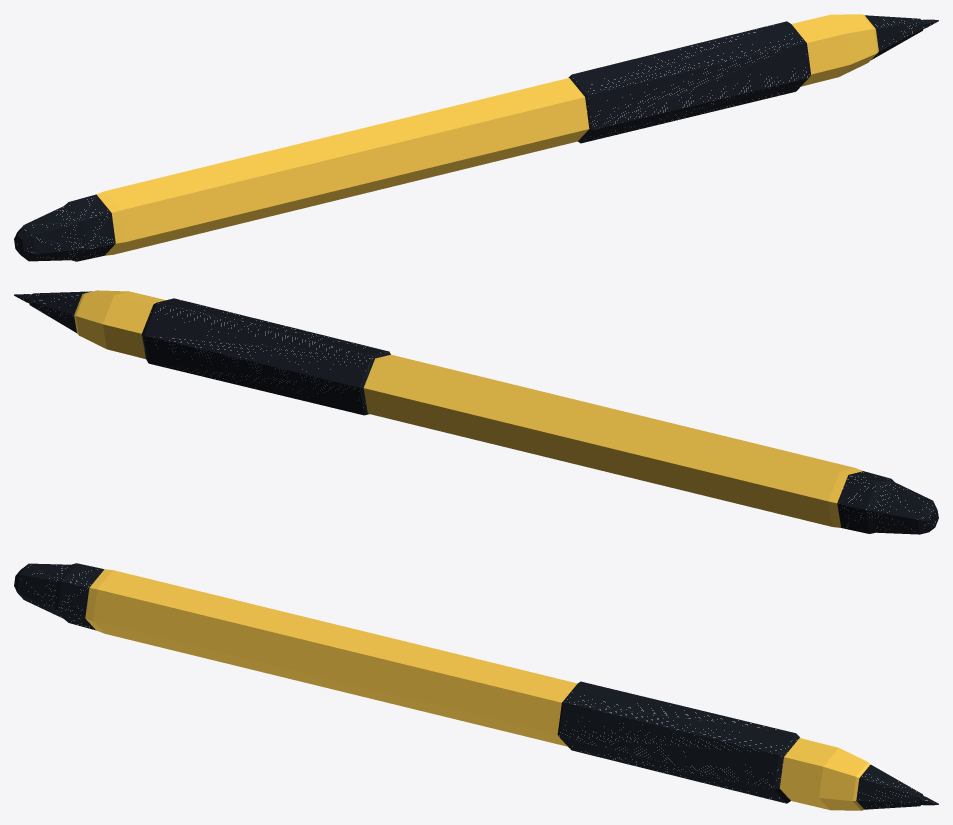
Rendered from Prop_Pen.fbx.
3 renders of one model, top to bottom at view 1: azimuth 30°, elevation 25°; view 2: azimuth 150°, elevation 25°; view 3: azimuth 330°, elevation 25°, orthographic.
Parts seen in each view (by area): view 1: Prop_Pen; view 2: Prop_Pen; view 3: Prop_Pen.
Boxes of the visible parts, x1,y1,x2,y2 form: Prop_Pen: (14,14,938,261); Prop_Pen: (14,290,938,534); Prop_Pen: (14,563,938,810).
Bounding box in the file's own units: 2.1 × 31.84 × 2.1.
